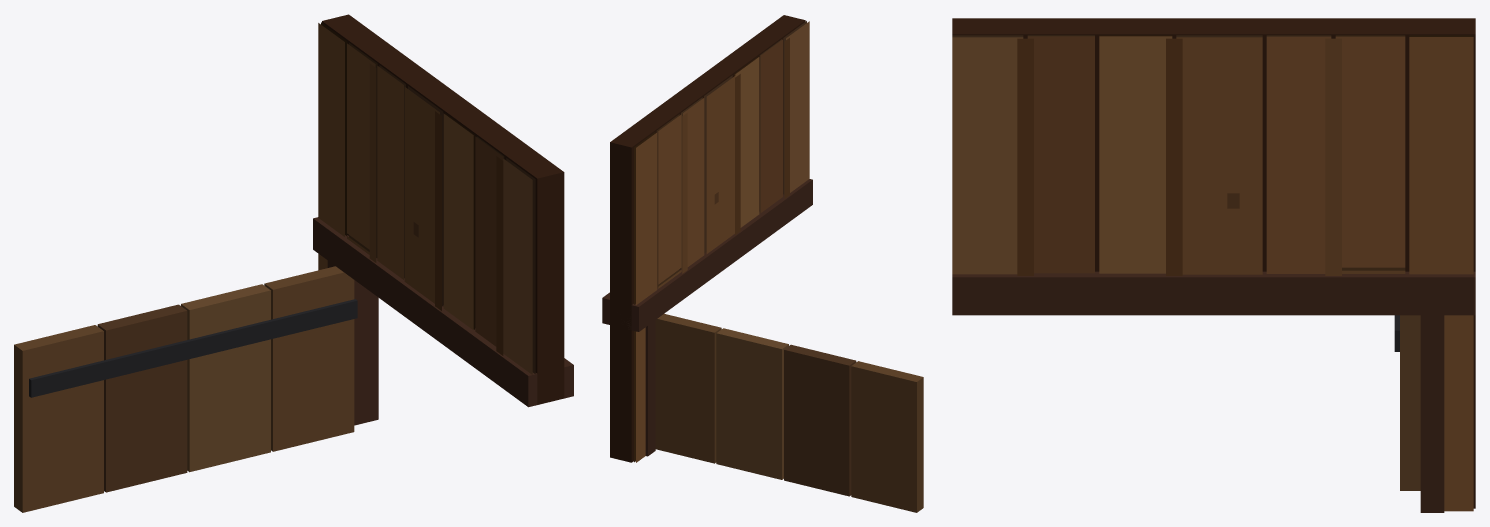
Rendered from wall-timber-door-open-high-l.glb.
3 views of the same model, side by side, from view 1: azimuth 30°, elevation 25°; view 2: azimuth 150°, elevation 25°; view 3: azimuth 270°, elevation 25° (orthographic). The views are drawn at different scales.
Visible parts, largest first — view 1: wall-timber-door-open-high-l; view 2: wall-timber-door-open-high-l; view 3: wall-timber-door-open-high-l.
Part boxes in pixels (bbox=[...]): wall-timber-door-open-high-l: bbox=[14, 14, 573, 512]; wall-timber-door-open-high-l: bbox=[602, 15, 923, 512]; wall-timber-door-open-high-l: bbox=[952, 18, 1475, 512].
Bounding box in the file's own units: 0.984 × 1 × 1.
